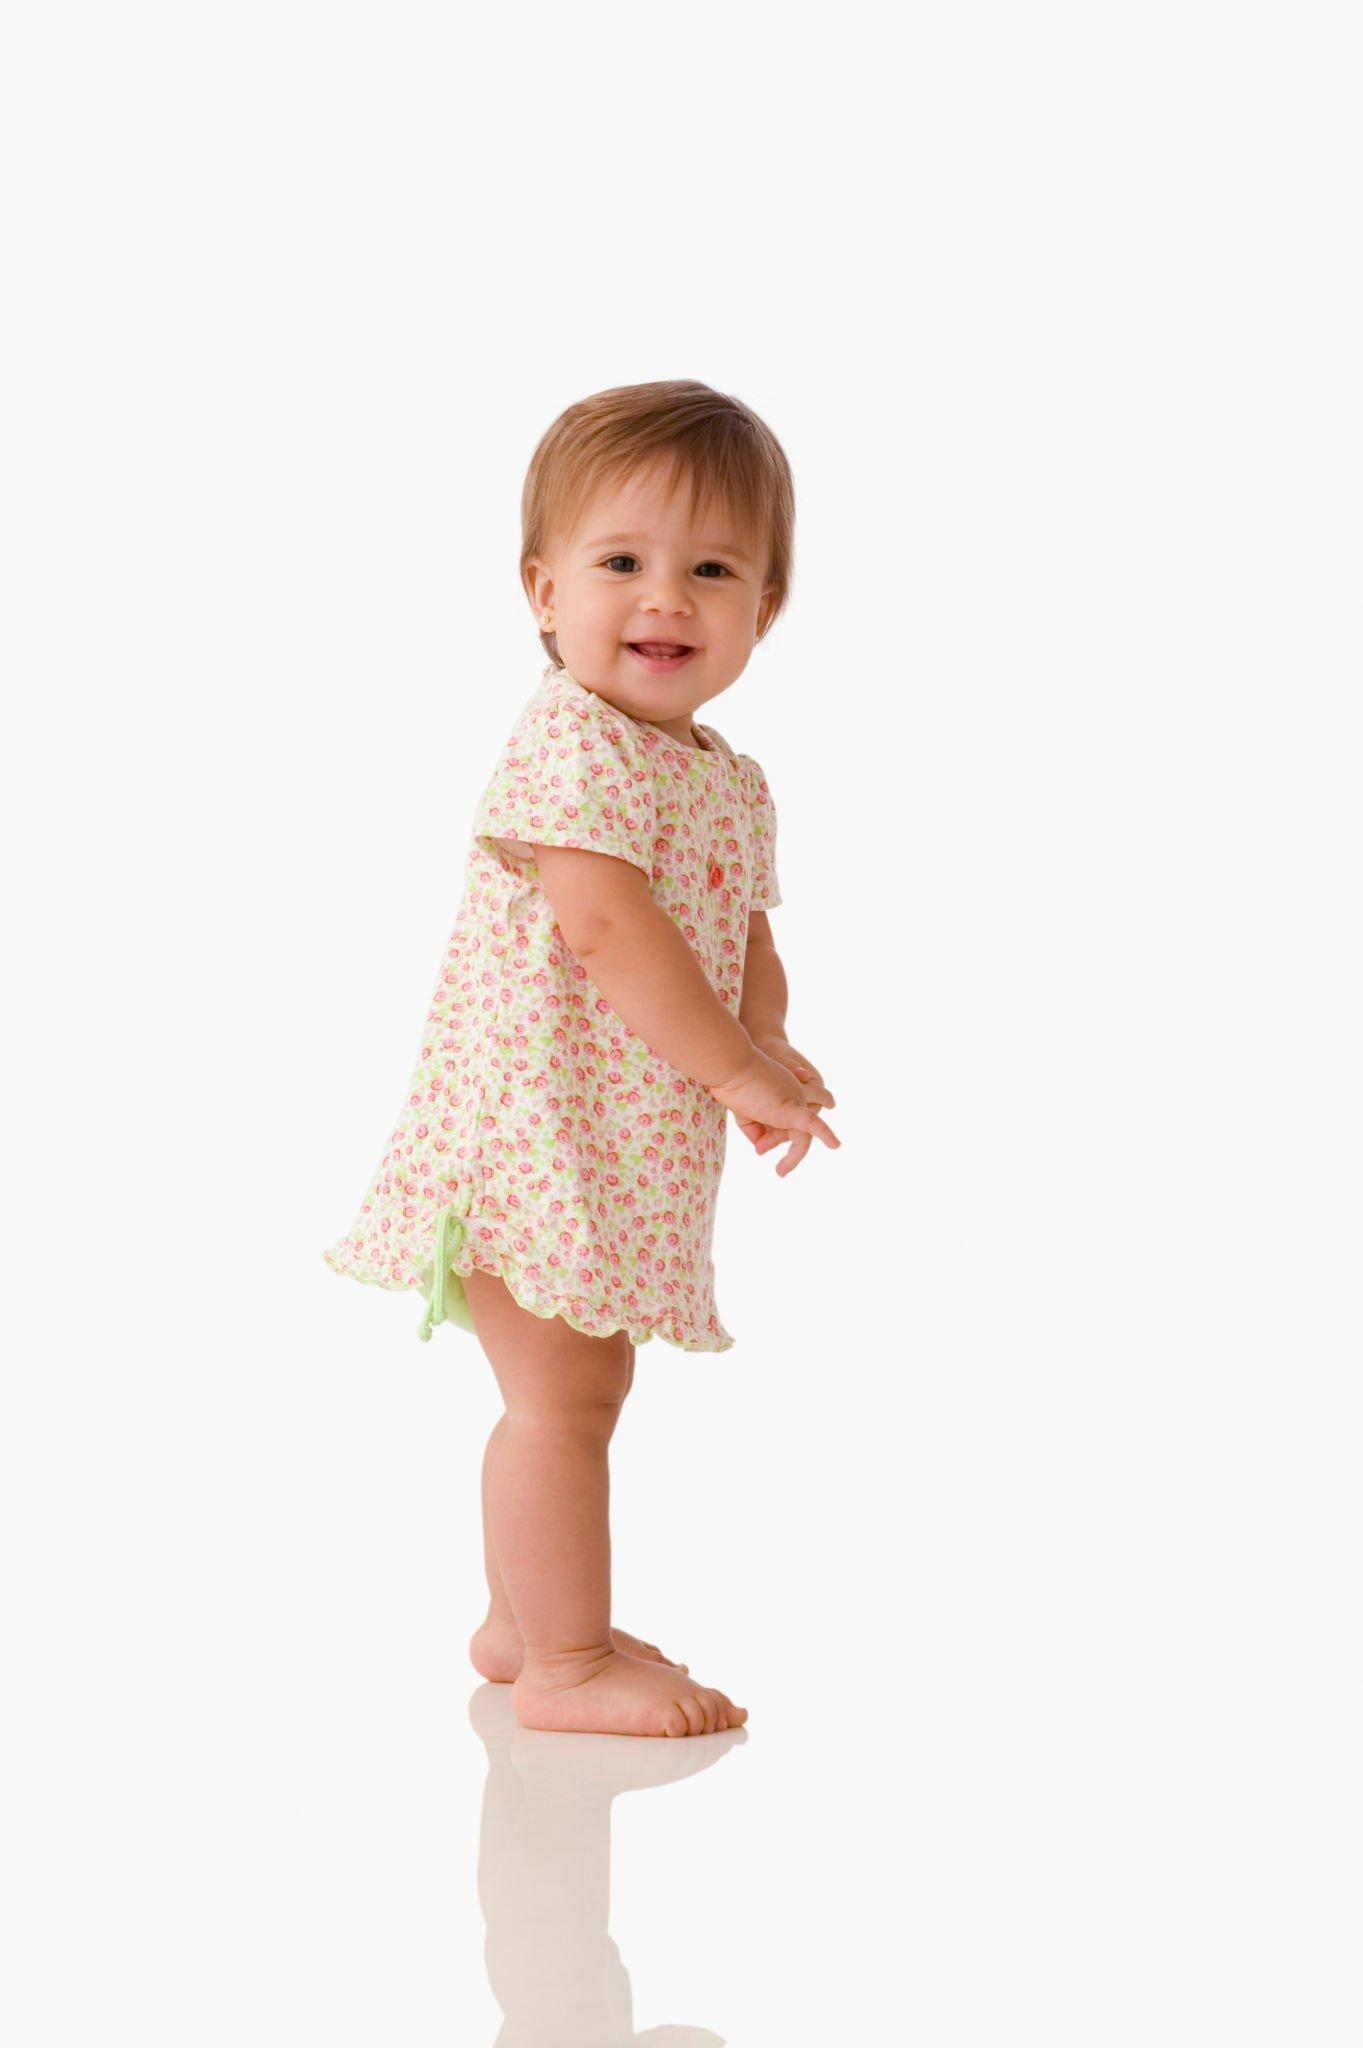Healthy: (502, 401, 843, 745)
